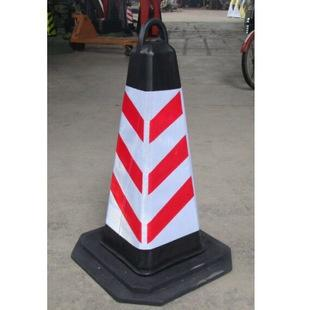cone_barrel: (82, 16, 217, 281)
